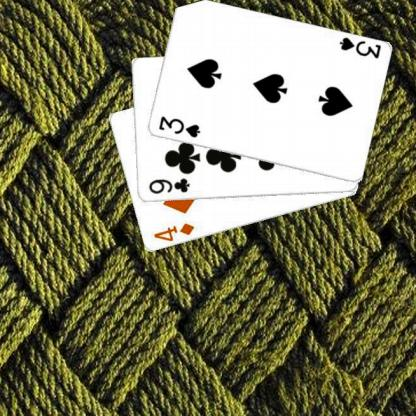3S: (336, 34, 382, 60), (155, 114, 201, 139)
4D: (151, 221, 195, 243)
9C: (146, 175, 190, 196)
